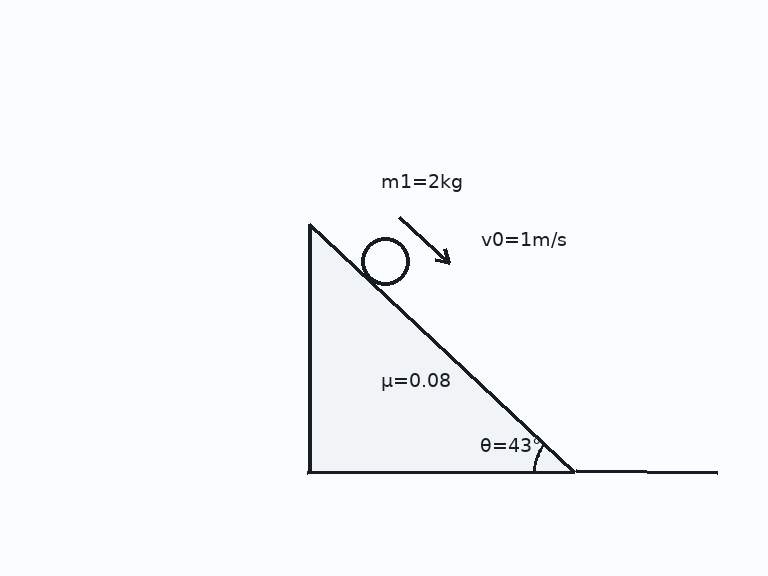ball: (359, 235, 411, 287)
ramp: (307, 221, 576, 473)
